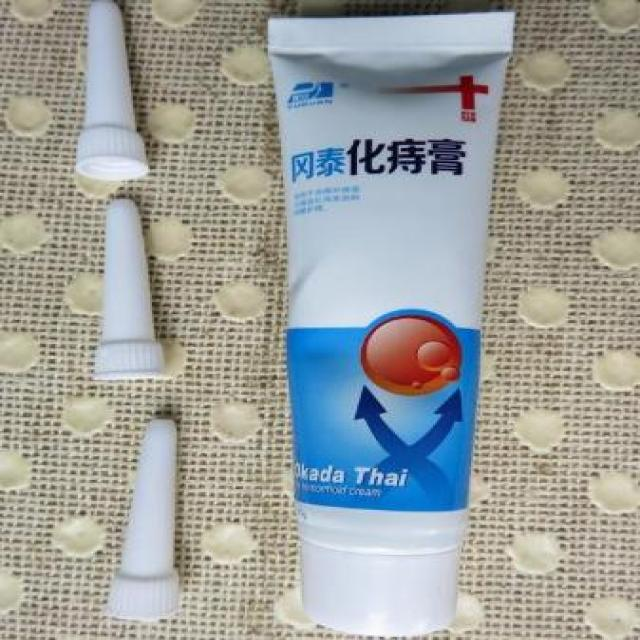-Hazardous waste - medicine inner packaging-: (268, 12, 505, 635)
